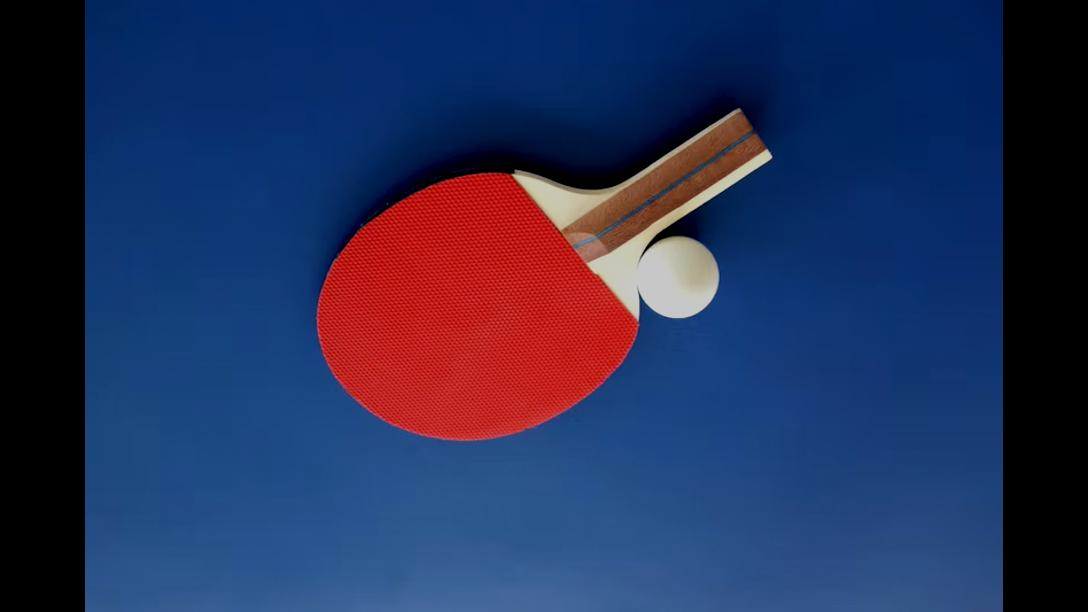Table-Tennis-Ball: (636, 238, 718, 320)
